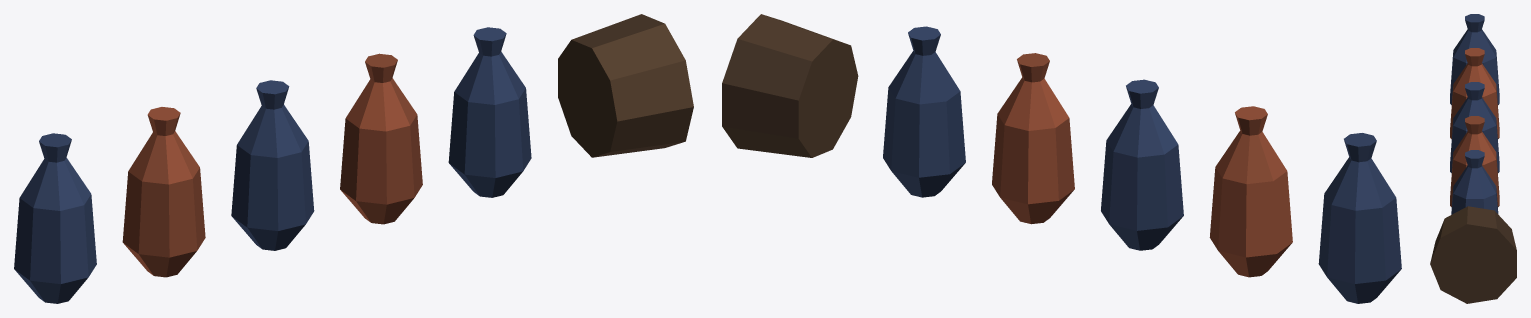
Rendered from walk_prop_goods_wine.glb.
3 renders of one model, left to right at view 1: azimuth 30°, elevation 25°; view 2: azimuth 150°, elevation 25°; view 3: azimuth 270°, elevation 25°, orthographic. The views are drawn at different scales.
Visible parts, largest first — view 1: walk_prop_goods_wine; view 2: walk_prop_goods_wine; view 3: walk_prop_goods_wine.
Boxes of the visible parts, x1,y1,x2,y2 form: walk_prop_goods_wine: (14, 14, 693, 303); walk_prop_goods_wine: (722, 14, 1401, 303); walk_prop_goods_wine: (1430, 14, 1516, 303).
Bounding box in the file's own units: 2.64 × 0.62 × 0.4849.
1 material, 1 textured.
